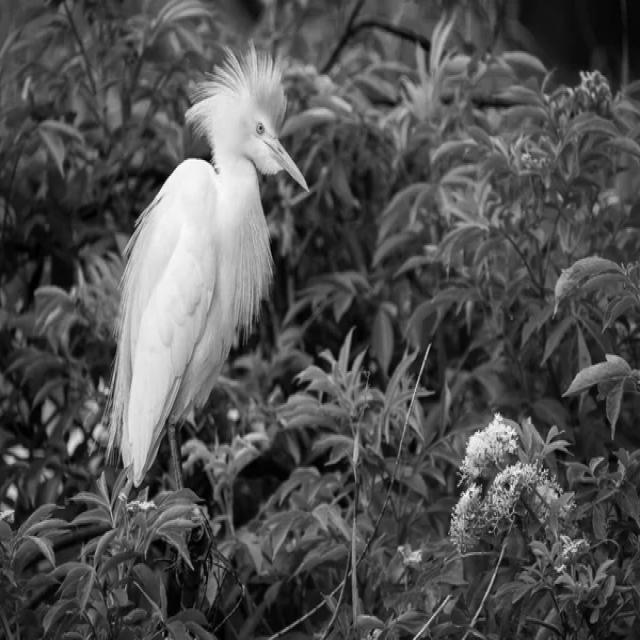Animal: (110, 48, 307, 486)
